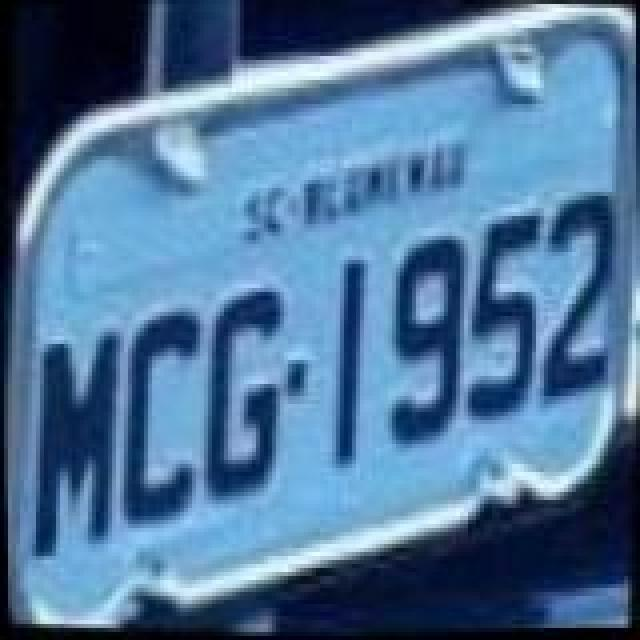1: (324, 256, 368, 472)
2: (532, 192, 624, 412)
5: (458, 208, 546, 428)
9: (382, 238, 470, 454)
C: (112, 302, 208, 530)
G: (198, 284, 290, 508)
M: (24, 326, 128, 562)
